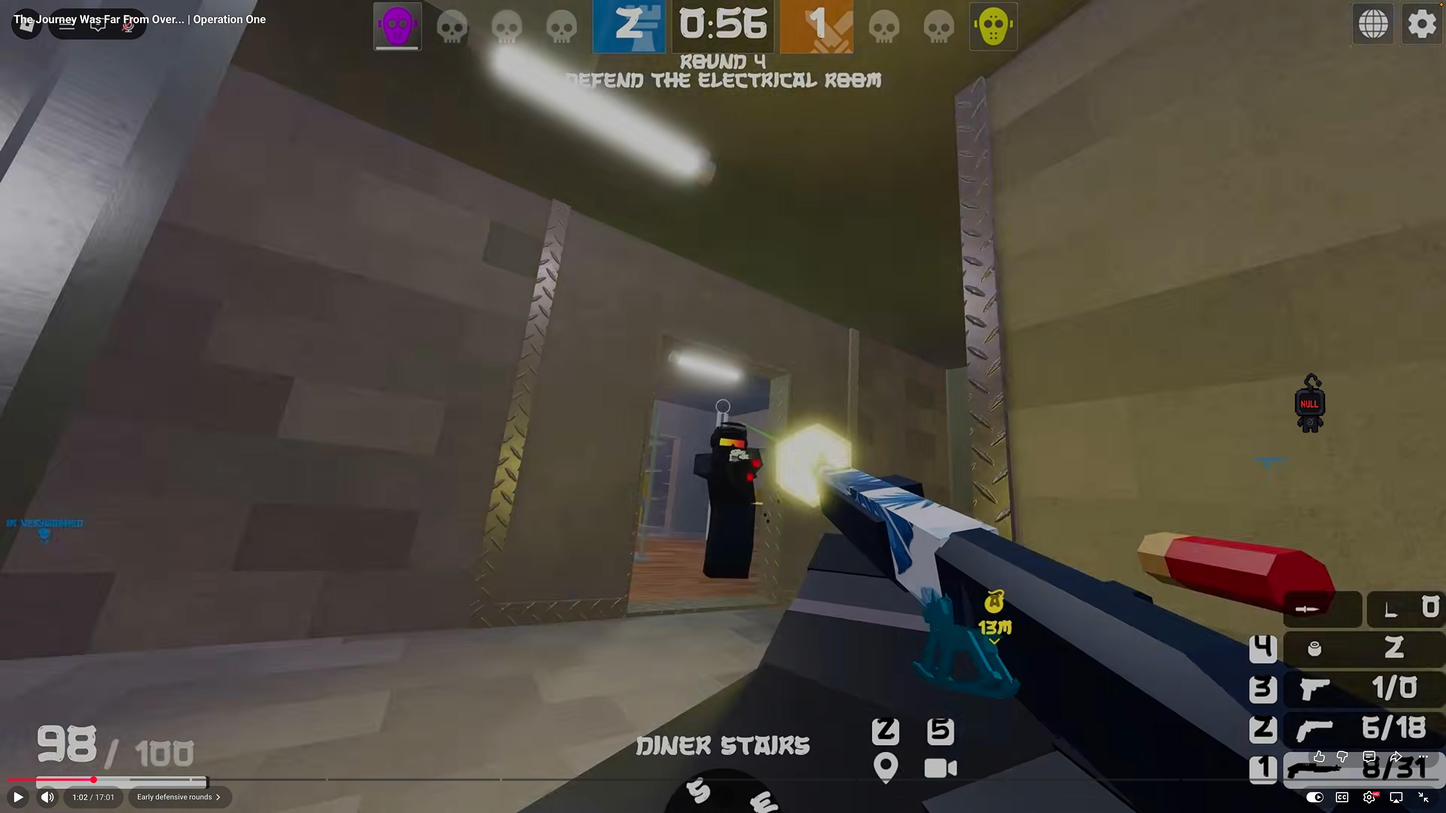enemy: (691, 418, 765, 583)
